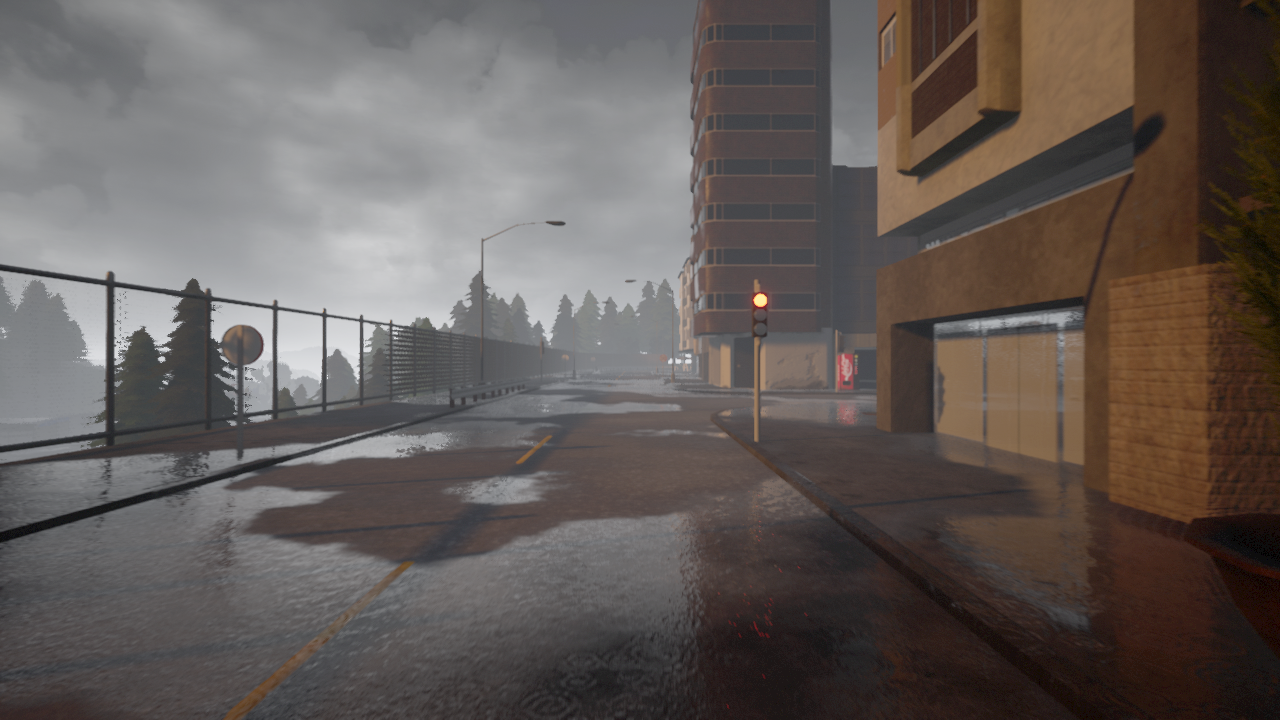red: (750, 291, 771, 340)
